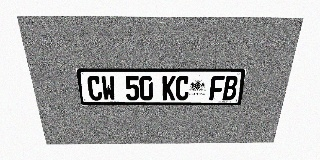0: (139, 76, 153, 100)
5: (125, 76, 140, 100)
B: (222, 76, 239, 100)
C: (87, 76, 103, 101), (176, 76, 190, 100)
F: (209, 76, 225, 100)
K: (162, 76, 176, 100)
W: (101, 76, 116, 101)
